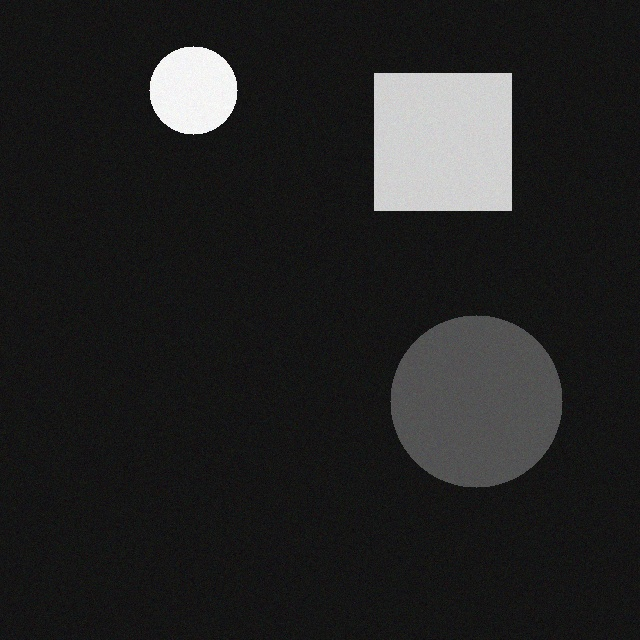circle: (400, 330, 572, 502), (159, 61, 247, 149)
square: (384, 88, 521, 225)
